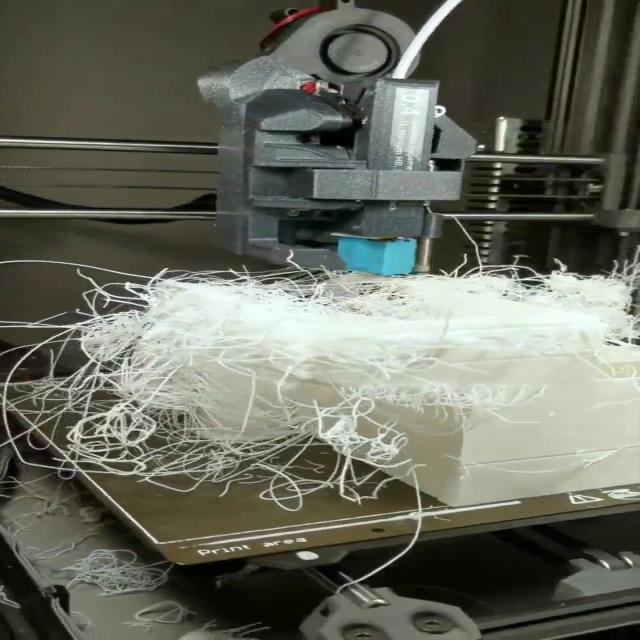spaghetti: (15, 250, 640, 515)
